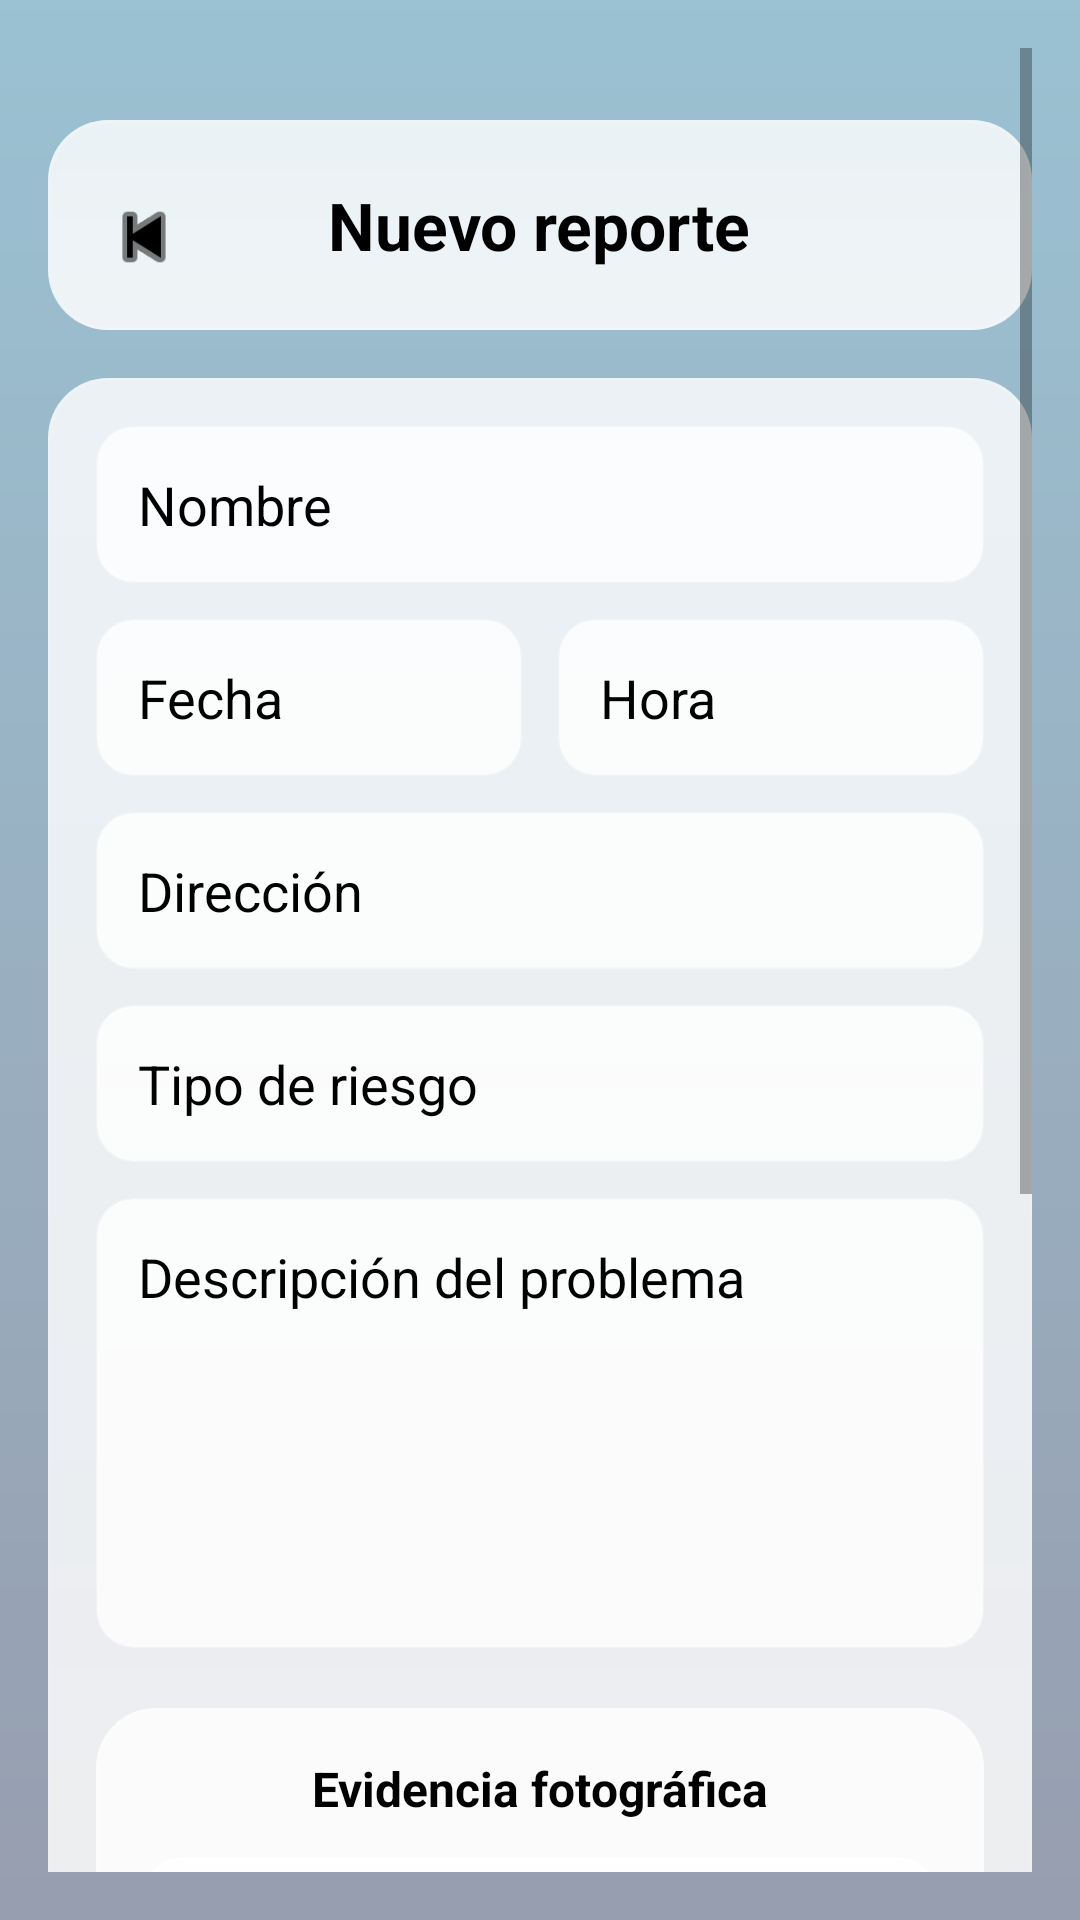

Named icons in this screenshot (1080px x 1920px) and their centers, (x,y):
Regresar: (144,237)
